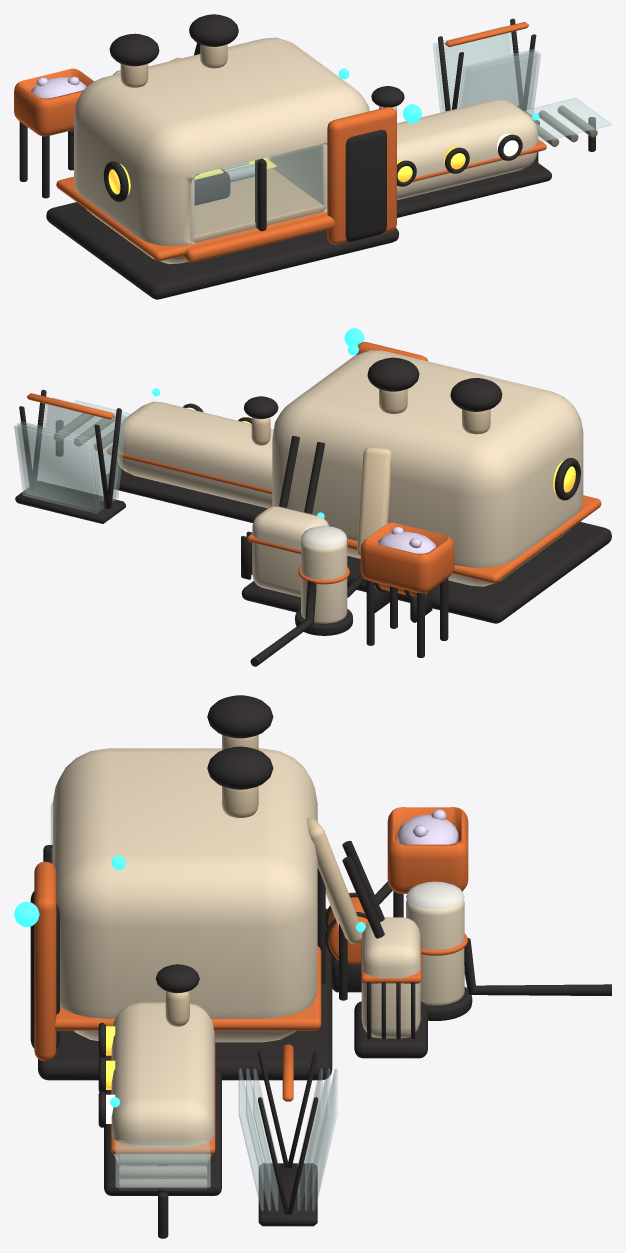
File: glassworks.glb
3 views of the same model, one above another, from view 1: azimuth 30°, elevation 25°; view 2: azimuth 150°, elevation 25°; view 3: azimuth 270°, elevation 25° (orthographic). The views are drawn at different scales.
Visible parts, largest first — view 1: Cube.001, Cube, Cube.011, Cube.012, Cube.003, Cube.002, Cube.027, Cylinder.021, Cube.007, Sphere.006, Cube.010, Cylinder; view 2: Cube.001, Cube, Cube.011, Cube.012, Cube.027, Sphere.006, Cylinder.021, Sphere.009, Cube.010; view 3: Cube.001, Cube, Cube.012, Cube.011, Cube.027, Cylinder.021, Sphere.006, Sphere.009, Cube.010.
Part boxes in pixels (box(x1,y1,x2,y2)): Cube.001: box(74, 37, 538, 264); Cube: box(19, 14, 595, 299); Cube.011: box(190, 26, 611, 244); Cube.012: box(14, 22, 546, 262); Cube.003: box(192, 168, 326, 242); Cube.002: box(190, 144, 327, 240); Cube.027: box(120, 44, 396, 113); Cylinder.021: box(535, 105, 597, 146); Cube.007: box(108, 146, 465, 195); Sphere.006: box(31, 76, 86, 98); Cube.010: box(338, 68, 539, 123); Cylinder: box(222, 162, 254, 182); Cube.001: box(117, 350, 583, 623); Cube: box(15, 357, 611, 666); Cube.011: box(14, 397, 130, 513); Cube.012: box(27, 342, 601, 596); Cube.027: box(251, 389, 490, 555); Sphere.006: box(378, 526, 435, 553); Cylinder.021: box(54, 413, 115, 450); Sphere.009: box(301, 526, 346, 547); Cube.010: box(152, 328, 364, 518); Cube.001: box(52, 748, 464, 1165); Cube: box(30, 695, 611, 1238); Cube.012: box(34, 807, 468, 1154); Cube.011: box(50, 803, 337, 1210); Cube.027: box(165, 735, 362, 1026); Cylinder.021: box(119, 1153, 207, 1190); Sphere.006: box(397, 809, 458, 844); Sphere.009: box(406, 881, 464, 909); Cube.010: box(14, 855, 365, 1107).
Size of the model in its own units: 2.03 by 0.7795 by 1.62.
